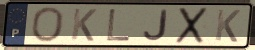J: (142, 8, 170, 42)
K: (69, 7, 99, 43), (213, 8, 242, 44)
L: (104, 8, 133, 42)
O: (29, 6, 66, 44)
X: (174, 6, 210, 45)
